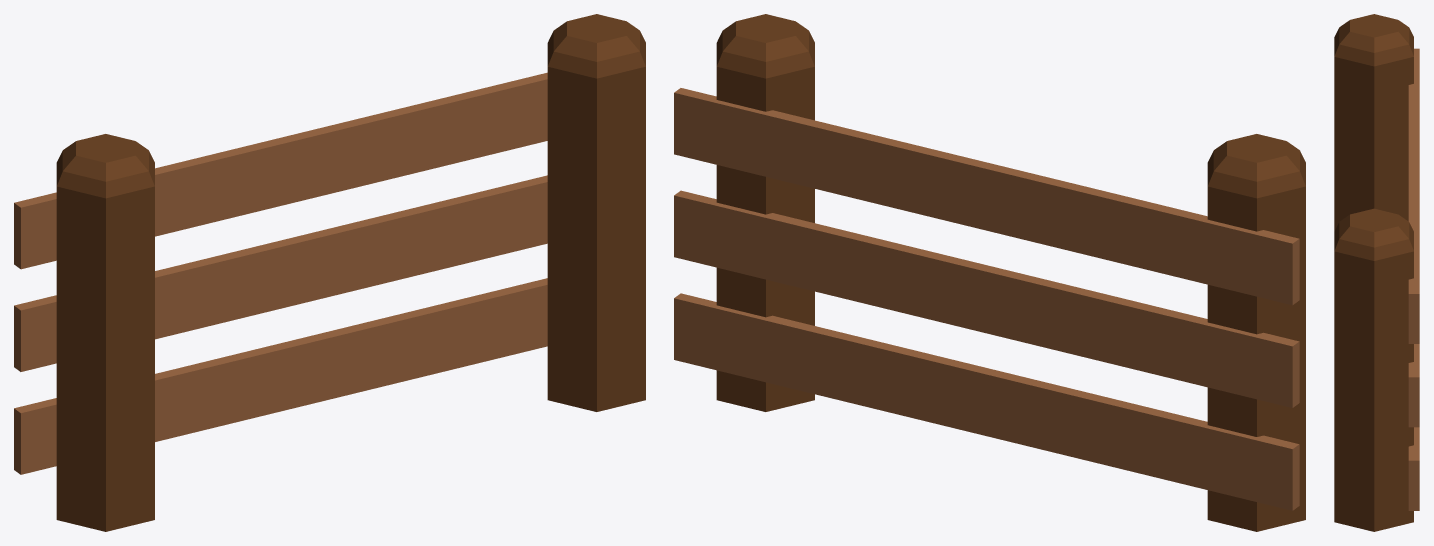
The model's file is Balla.fbx.
The picture shows the model from 3 angles, left to right: view 1: azimuth 30°, elevation 25°; view 2: azimuth 150°, elevation 25°; view 3: azimuth 270°, elevation 25°; orthographic projection. The views are drawn at different scales.
Visible parts, largest first — view 1: Cylinder.002; view 2: Cylinder.002; view 3: Cylinder.002.
Part boxes in pixels (left/top/right/bottom): Cylinder.002: left=14, top=14, right=645, bottom=531; Cylinder.002: left=674, top=14, right=1305, bottom=531; Cylinder.002: left=1334, top=14, right=1419, bottom=531.
Bounding box in the file's own units: 6.3 × 3.5 × 0.926.
